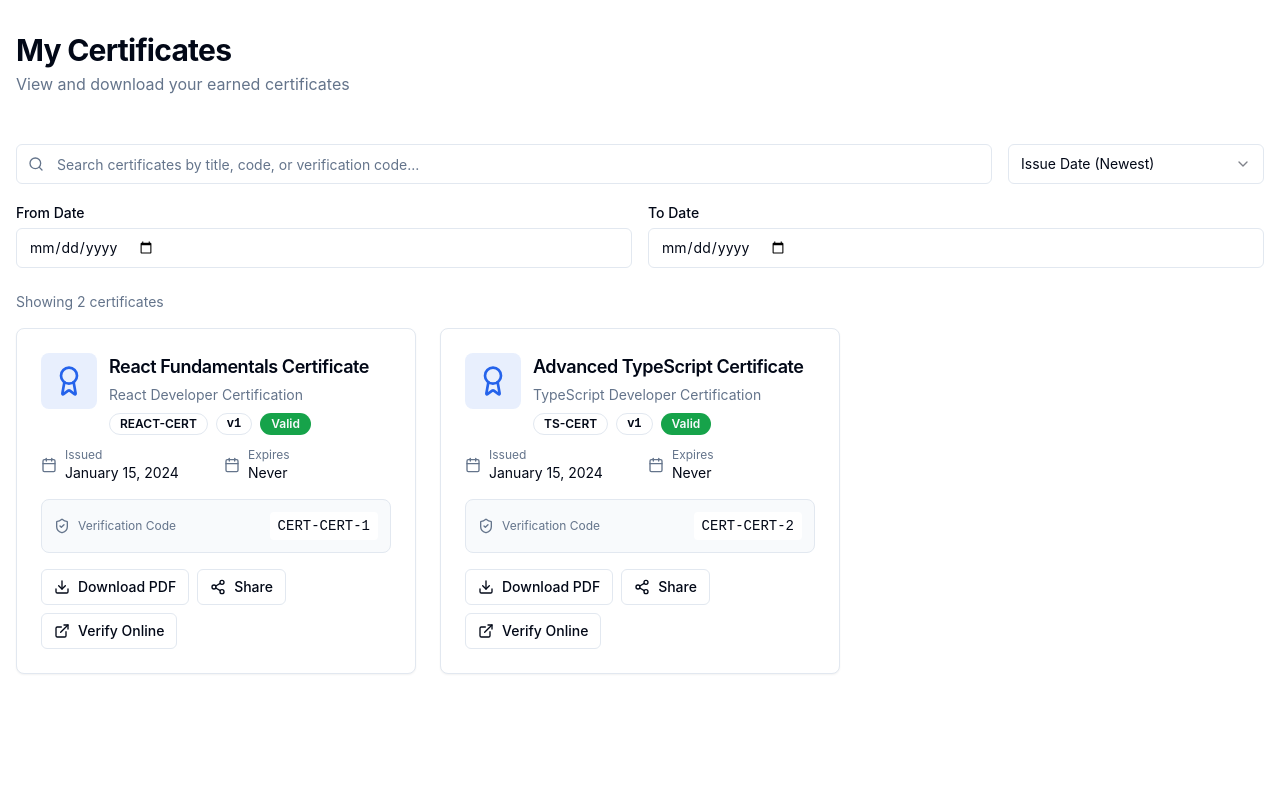
Test: CertificatesPage › Search Functionality › should filter certificates by title
This screenshot has width=1280, height=800.
Type "React" into the field with placeholder "Search certificates by title, code, or verification code..." at (504, 164), box [16,144,992,184]
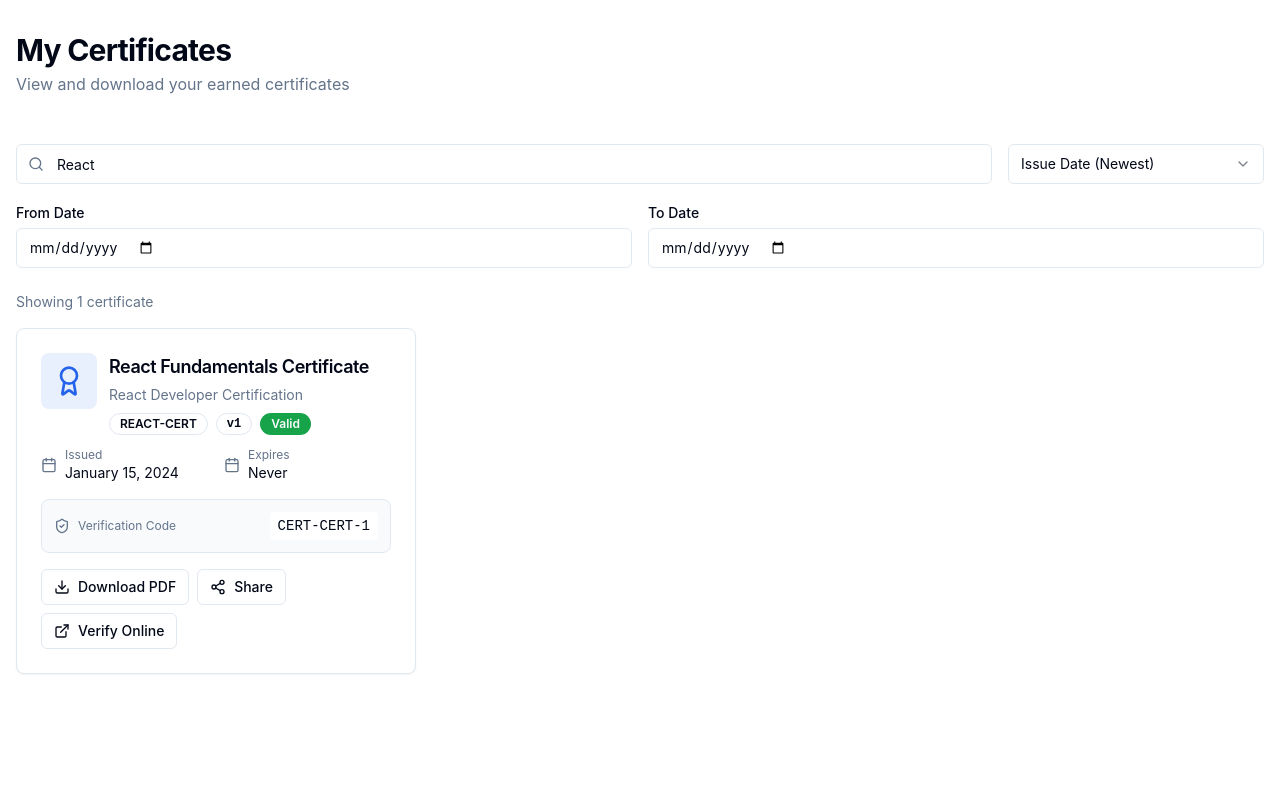
expect the heading "React Fundamentals Certificate" is shown: met, box [109,353,369,381]
expect the heading "Advanced TypeScript Certificate" is gone: met
